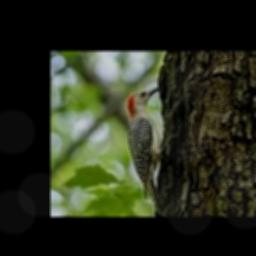Woodpecker: (127, 86, 178, 211)
